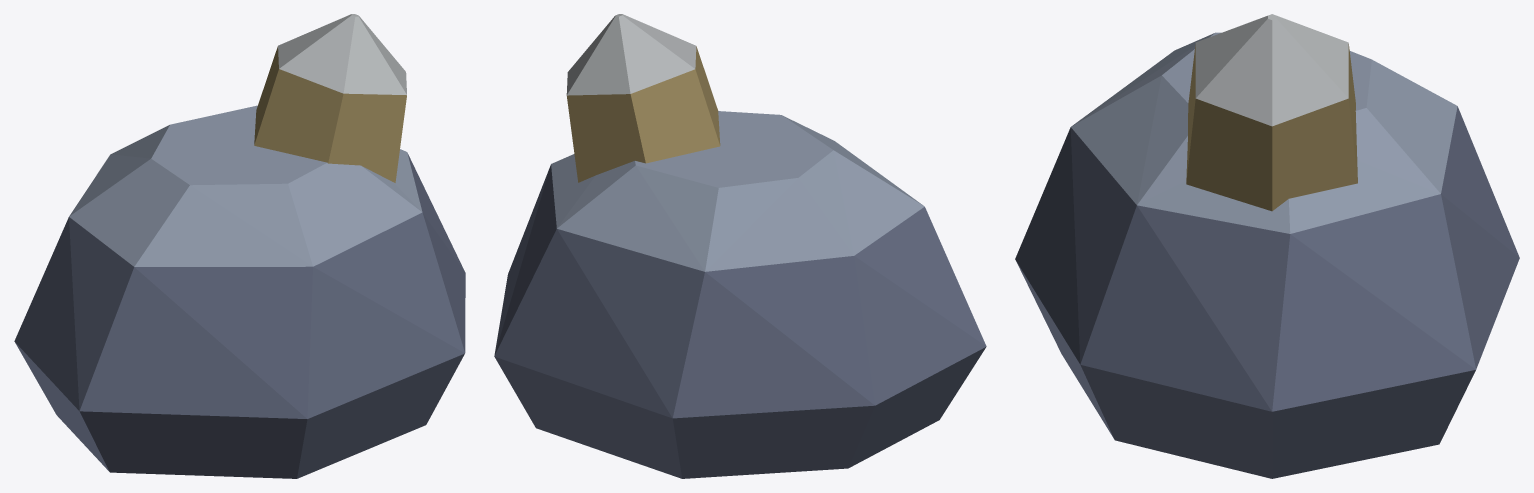
Rendered from sky-rock.glb.
3 renders of one model, left to right at view 1: azimuth 30°, elevation 25°; view 2: azimuth 150°, elevation 25°; view 3: azimuth 270°, elevation 25°, orthographic. The views are drawn at different scales.
Parts seen in each view (by area): view 1: sky-rock__body; view 2: sky-rock__body; view 3: sky-rock__body.
Boxes of the visible parts, x1,y1,x2,y2 form: sky-rock__body: (14, 14, 465, 478); sky-rock__body: (494, 14, 986, 478); sky-rock__body: (1015, 14, 1519, 478).
Size of the model in its own units: 1.41 by 1.13 by 1.23.
